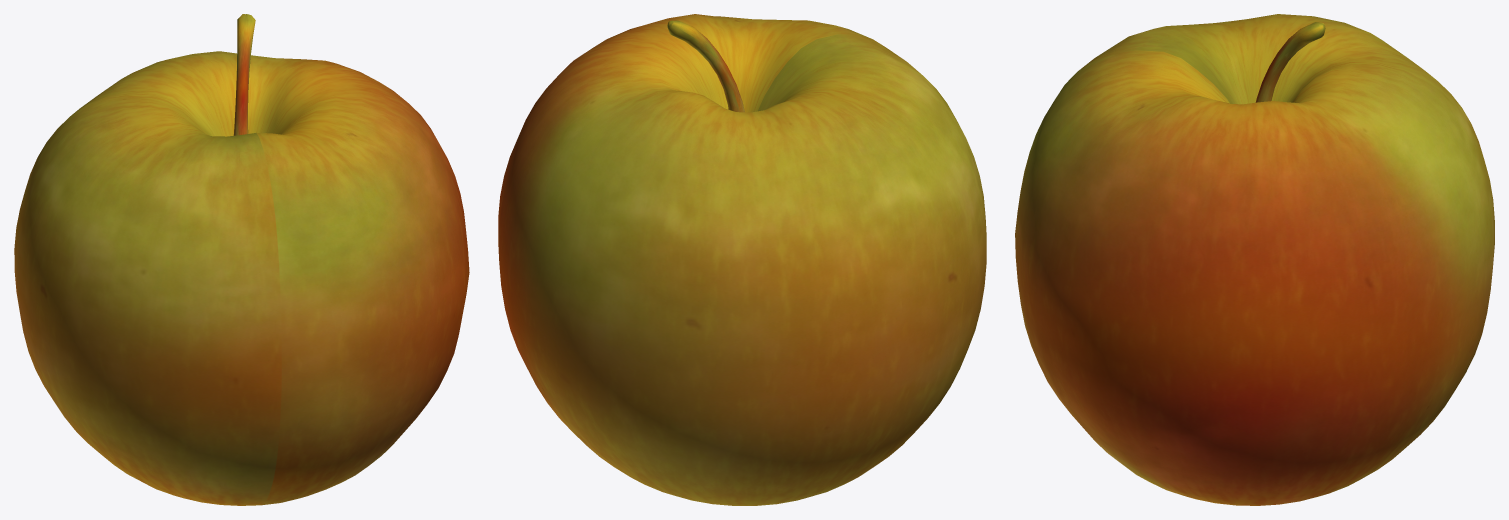
Rendered from apple.obj.
3 renders of one model, left to right at view 1: azimuth 30°, elevation 25°; view 2: azimuth 150°, elevation 25°; view 3: azimuth 270°, elevation 25°, orthographic. The views are drawn at different scales.
Visible parts, largest first — view 1: Mesh.001_apple; view 2: Mesh.001_apple; view 3: Mesh.001_apple.
Part boxes in pixels (left/top/right/bottom): Mesh.001_apple: left=14, top=14, right=469, bottom=505; Mesh.001_apple: left=498, top=14, right=986, bottom=505; Mesh.001_apple: left=1015, top=14, right=1494, bottom=505.
Size of the model in its own units: 1.54 by 1.59 by 1.5.
